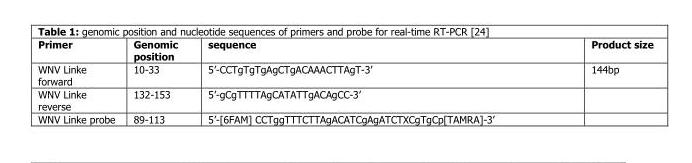table: (37, 37, 652, 124)
table column: (192, 37, 542, 124), (542, 37, 652, 124), (37, 37, 123, 124), (123, 37, 192, 124)
table column header: (37, 37, 652, 61)
table row: (37, 61, 652, 86), (37, 86, 652, 111), (37, 37, 652, 61), (37, 111, 652, 124)
